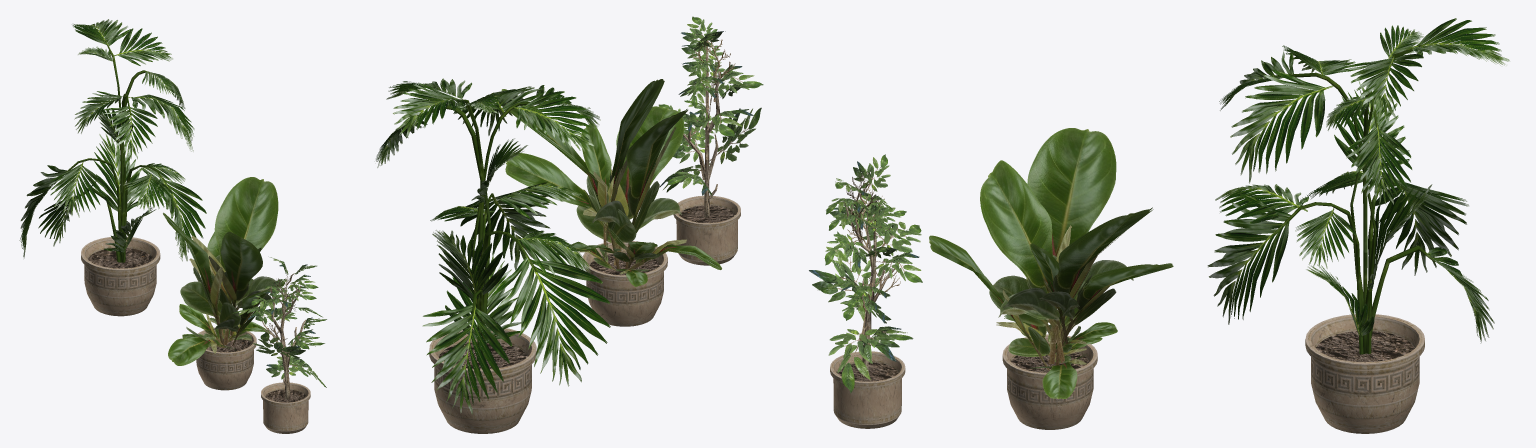
File: Plants.fbx
3 views of the same model, side by side, from view 1: azimuth 30°, elevation 25°; view 2: azimuth 150°, elevation 25°; view 3: azimuth 270°, elevation 25° (orthographic). The views are drawn at different scales.
Parts seen in each view (by area): view 1: Plant_03.001, Plant_02, Plant_02.001, Pot_03, Plant_01.001, Plant_03, Pot_02, Plant_01, Pot_01; view 2: Plant_03.001, Plant_02, Plant_03, Plant_02.001, Pot_03, Plant_01, Plant_01.001, Pot_02, Pot_01; view 3: Plant_03.001, Plant_02, Plant_03, Pot_03, Plant_01.001, Plant_02.001, Pot_02, Pot_01, Plant_01.
Boxes of the visible parts, x1,y1,x2,y2 form: Plant_03.001: (19,19,206,262); Plant_02: (163,177,284,364); Plant_02.001: (163,213,284,365); Pot_03: (81,236,160,316); Plant_01.001: (233,257,326,399); Plant_03: (20,19,206,261); Pot_02: (196,327,256,390); Plant_01: (233,260,324,399); Pot_01: (261,382,310,433); Plant_03.001: (376,78,610,413); Plant_02: (501,79,721,285); Plant_03: (376,81,610,414); Plant_02.001: (502,80,721,286); Pot_03: (429,327,536,433); Plant_01: (660,16,763,217); Plant_01.001: (658,16,762,217); Pot_02: (582,241,667,326); Pot_01: (673,195,740,265); Plant_03.001: (1207,18,1509,353); Plant_02: (929,128,1172,398); Plant_03: (1208,19,1509,354); Pot_03: (1305,314,1424,433); Plant_01.001: (809,154,922,393); Plant_02.001: (929,166,1173,398); Pot_02: (1002,334,1097,429); Pot_01: (830,351,905,428); Plant_01: (809,154,922,374).
Size of the model in its own units: 152 by 194 by 326.
